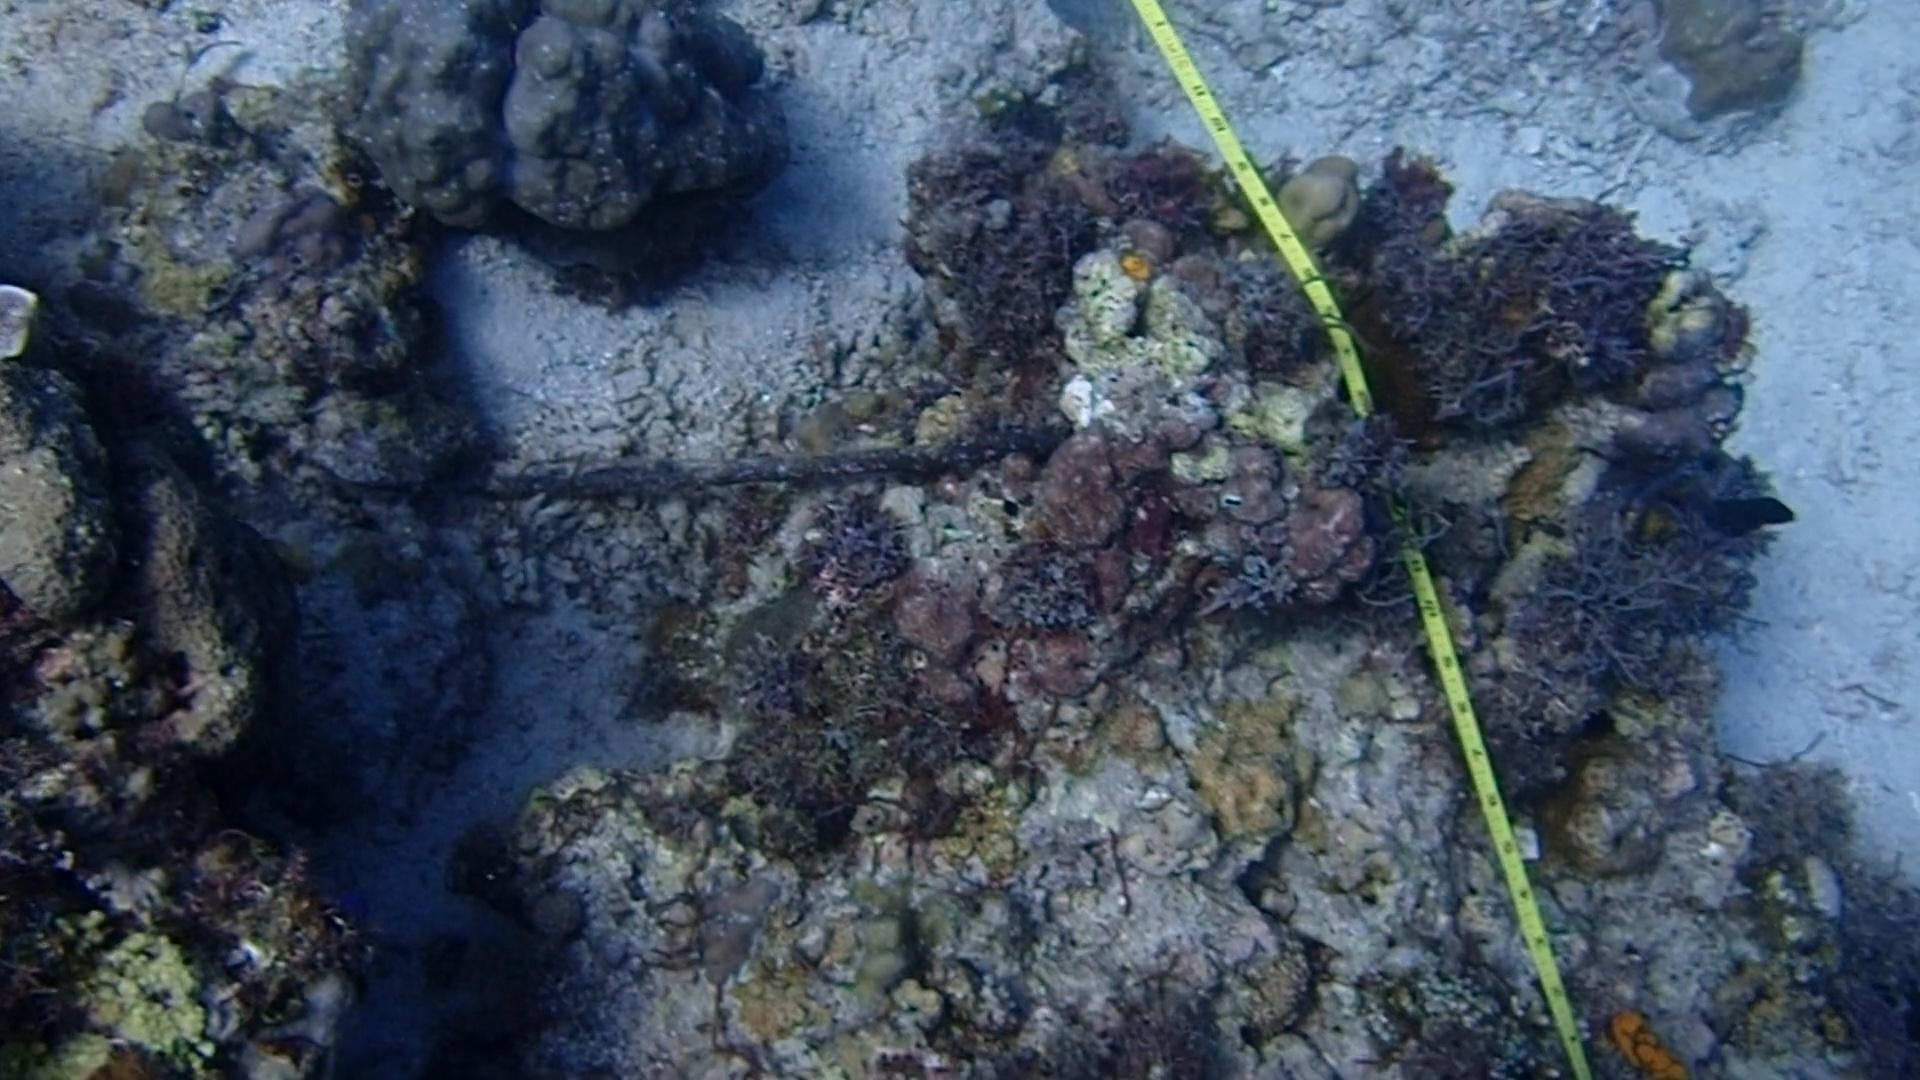Dark Fish: (1693, 476, 1808, 555)
